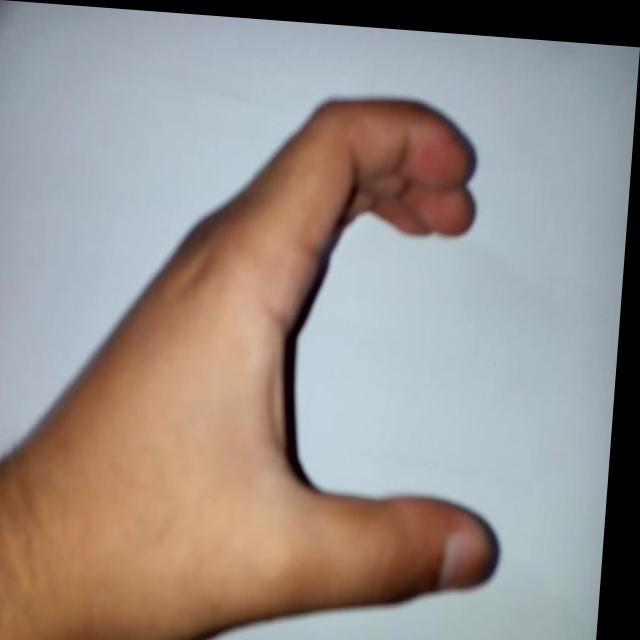C: (98, 69, 545, 631)
